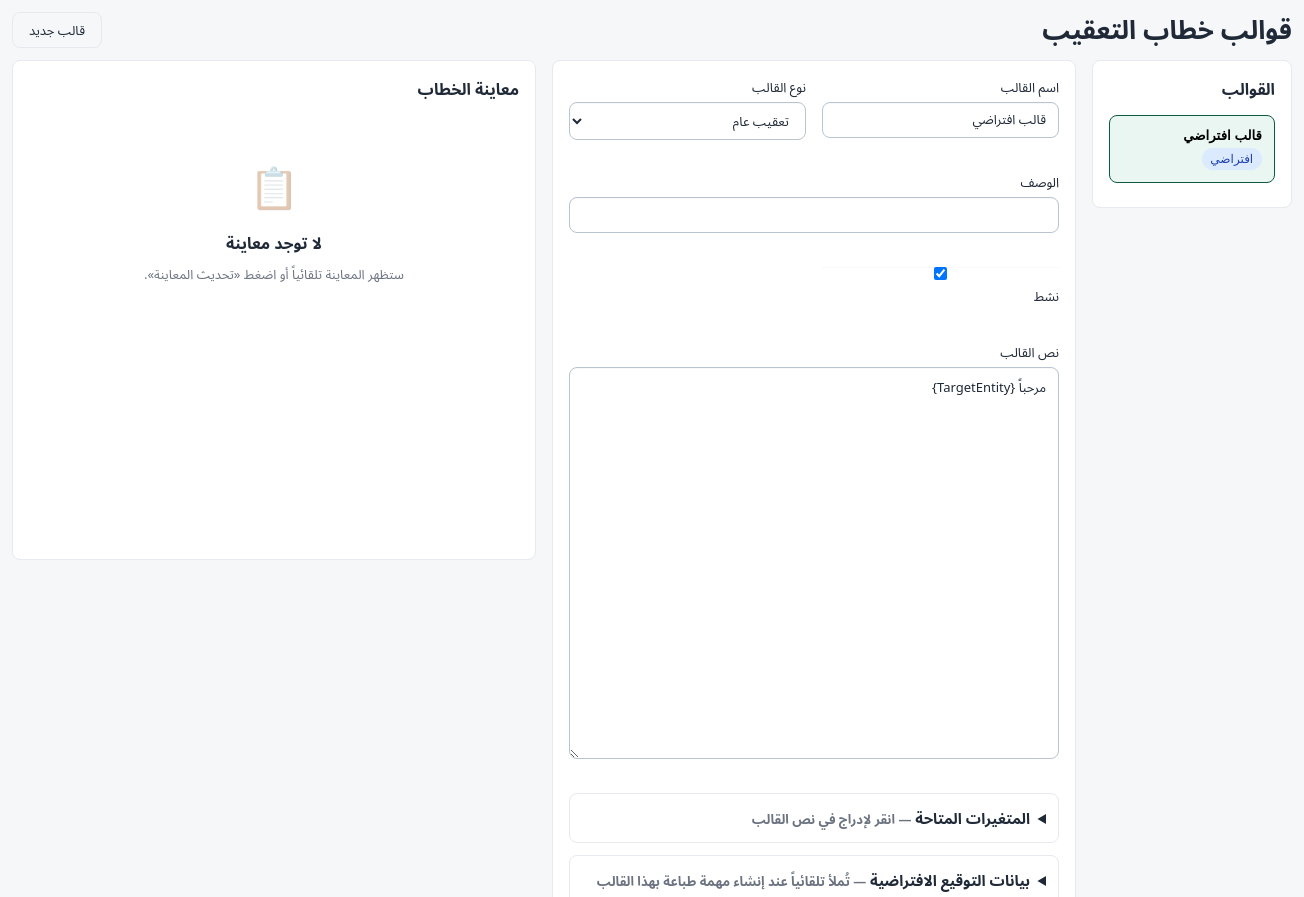
Test: LetterTemplatePage › shows variables sidebar
This screenshot has width=1304, height=897.
Open the details to reveal the variables list
Click the heading "المتغيرات المتاحة" at (891, 818), box left=752, top=808, right=1030, bottom=828
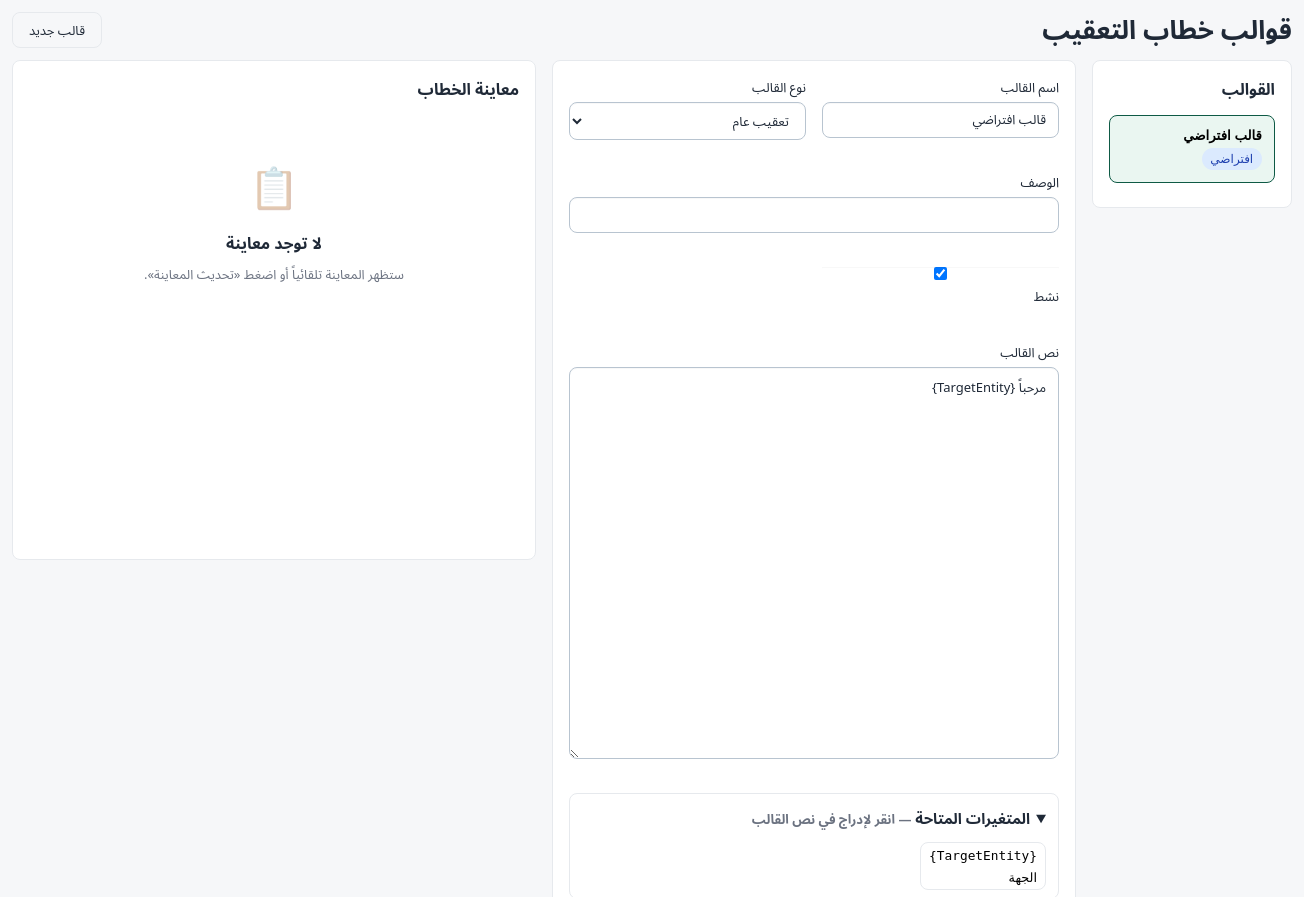
Result: the text "{TargetEntity}" is shown at left=929, top=848, right=1037, bottom=863
